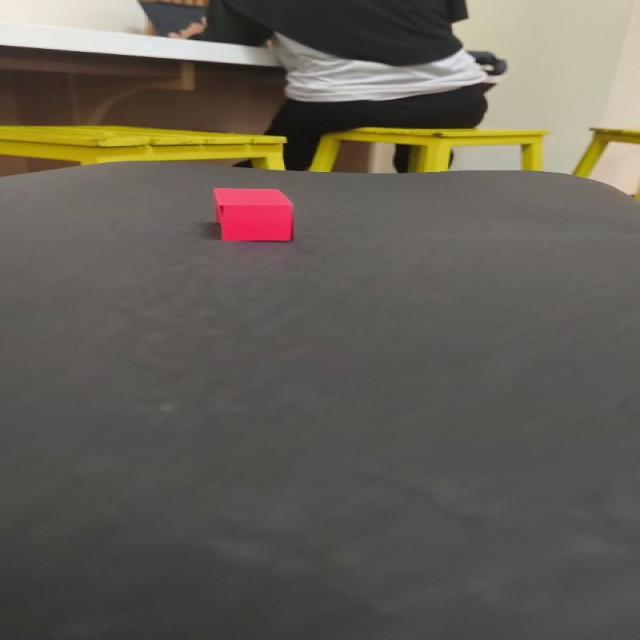red block: (212, 186, 293, 242)
